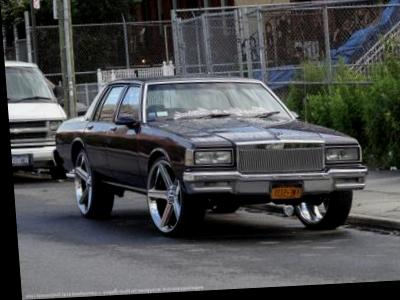License_Plate: (269, 183, 307, 203)
